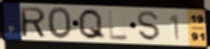1: (169, 14, 181, 42)
L: (107, 9, 130, 42)
O: (46, 6, 74, 41)
Q: (77, 8, 107, 41)
R: (19, 6, 47, 39)
S: (136, 11, 162, 43)
